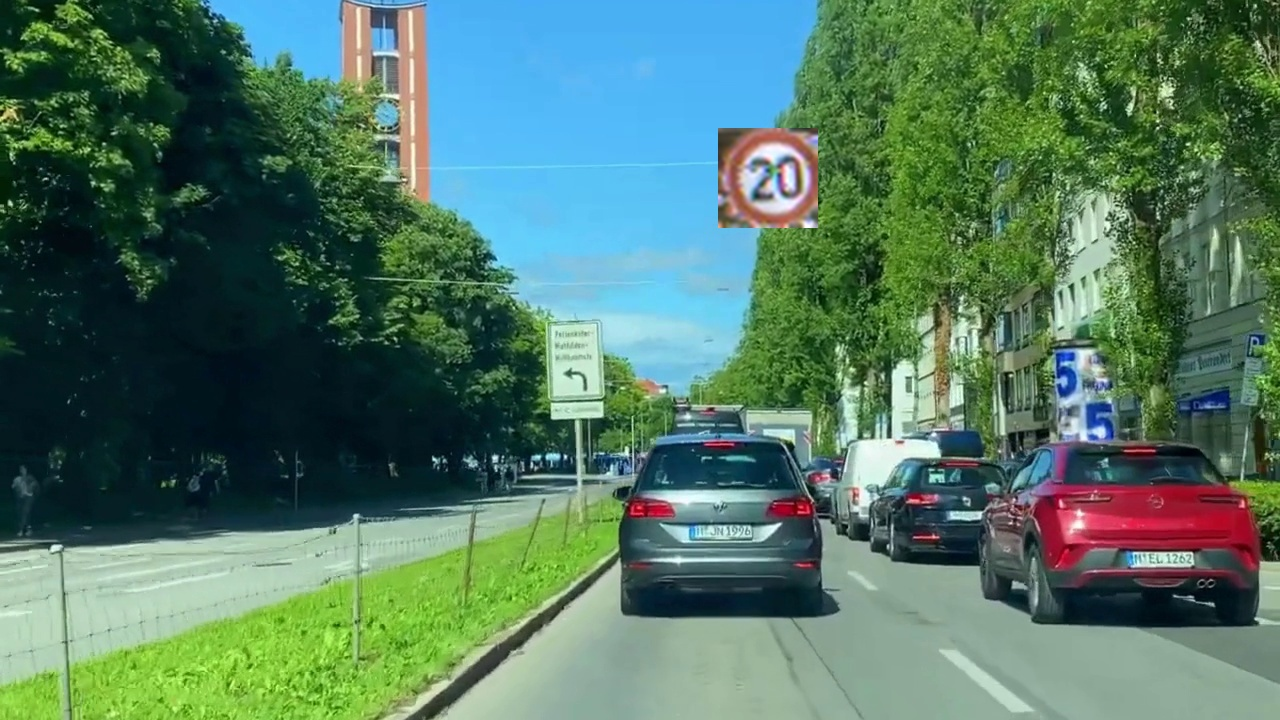Speed 20: (718, 128, 818, 228)
